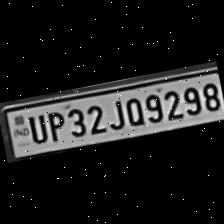2: (82, 100, 108, 137), (159, 86, 184, 124)
3: (63, 104, 88, 140)
8: (198, 78, 222, 114)
9: (178, 82, 203, 120), (140, 90, 164, 127)
J: (103, 96, 126, 134)
P: (42, 108, 67, 144)
Q: (120, 94, 146, 130)
U: (24, 110, 49, 145)
